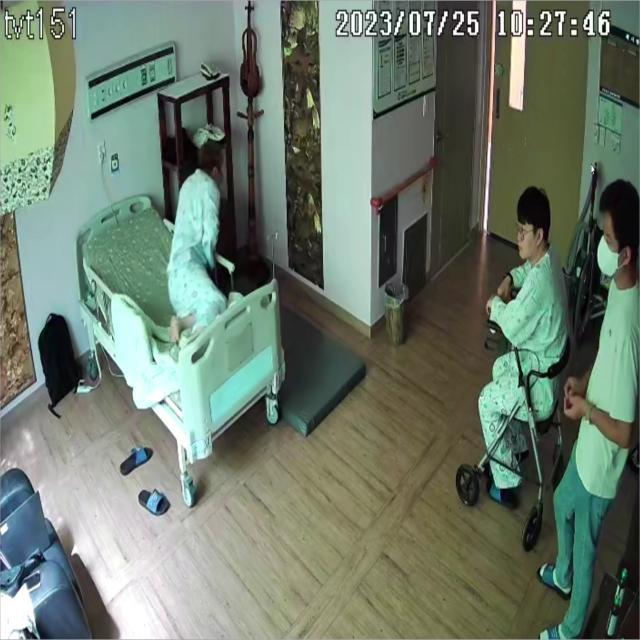danger: (166, 140, 228, 344)
patient: (166, 140, 228, 346)
